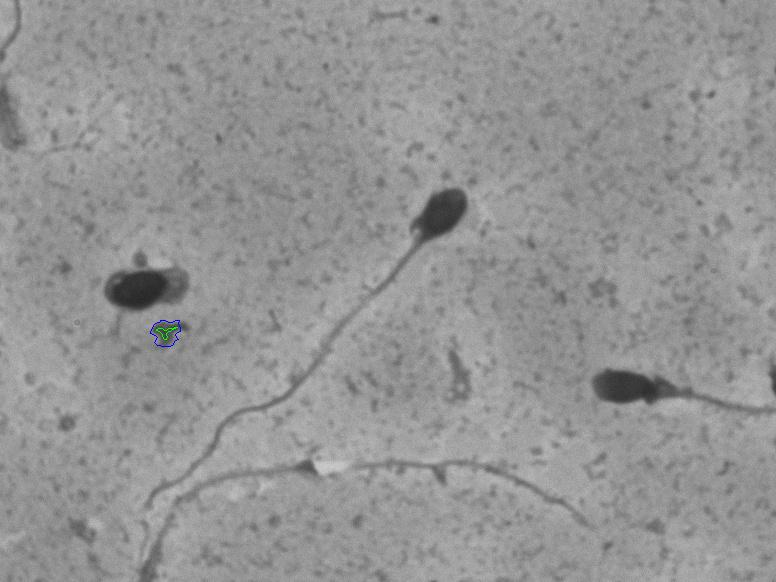Abnormal: (126, 172, 476, 520), (569, 308, 766, 459)
